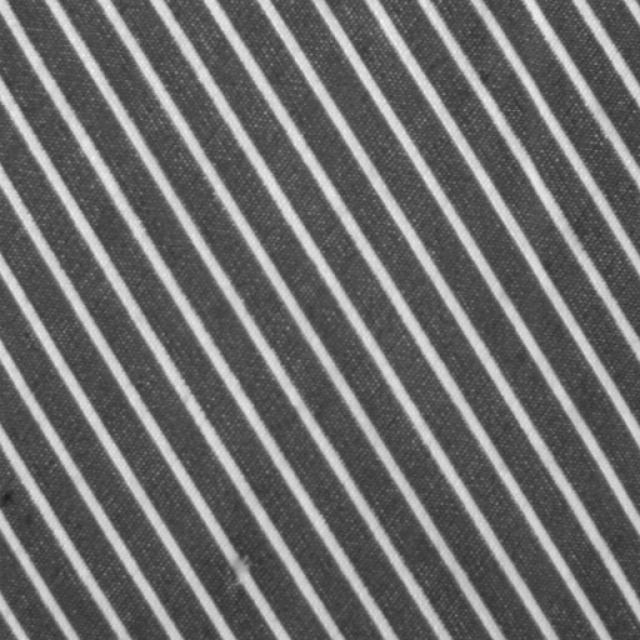Thread-Defect: (226, 555, 261, 601)
